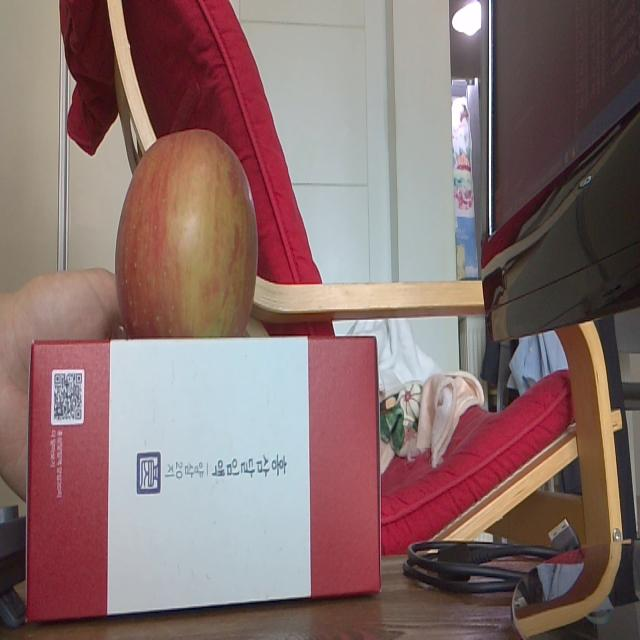apple: (116, 127, 258, 339)
